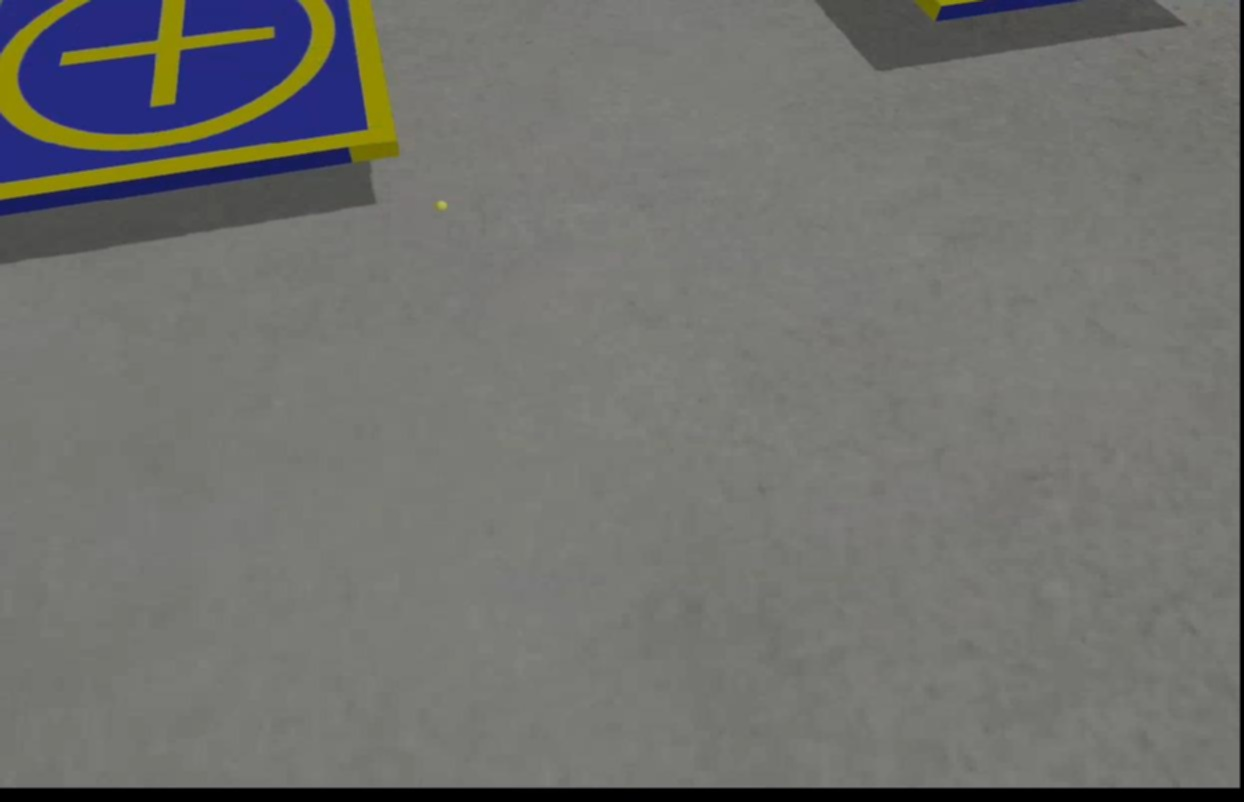small_base: (0, 1, 403, 213)
